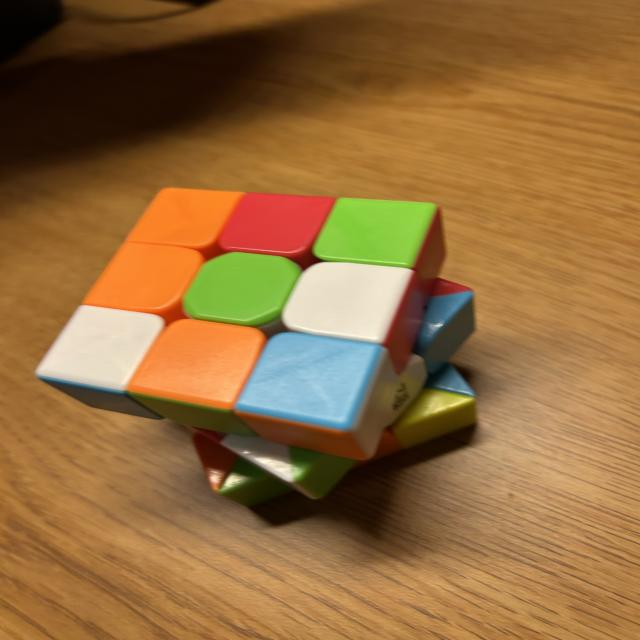Rubiks Cube: (34, 188, 478, 507)
